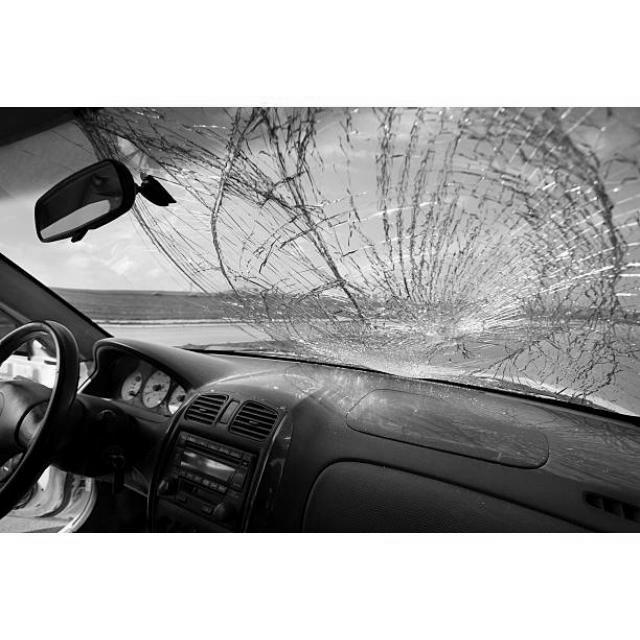Front-windscreen-damage: (114, 108, 640, 409)
